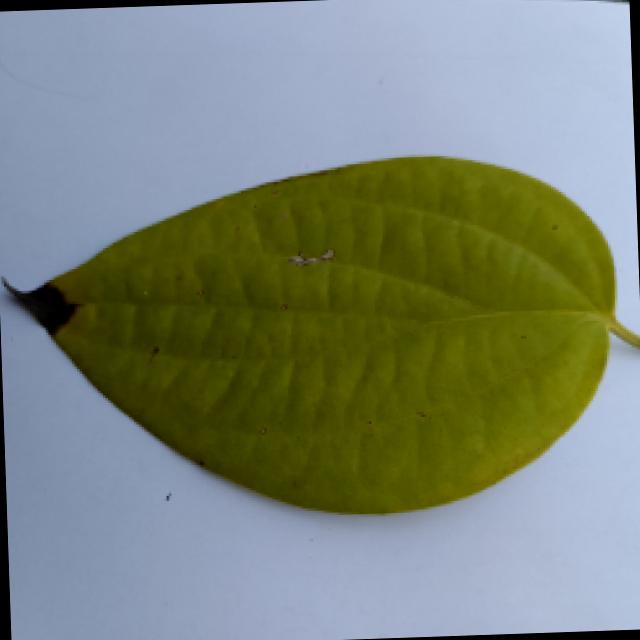slow-decline: (0, 147, 626, 526)
